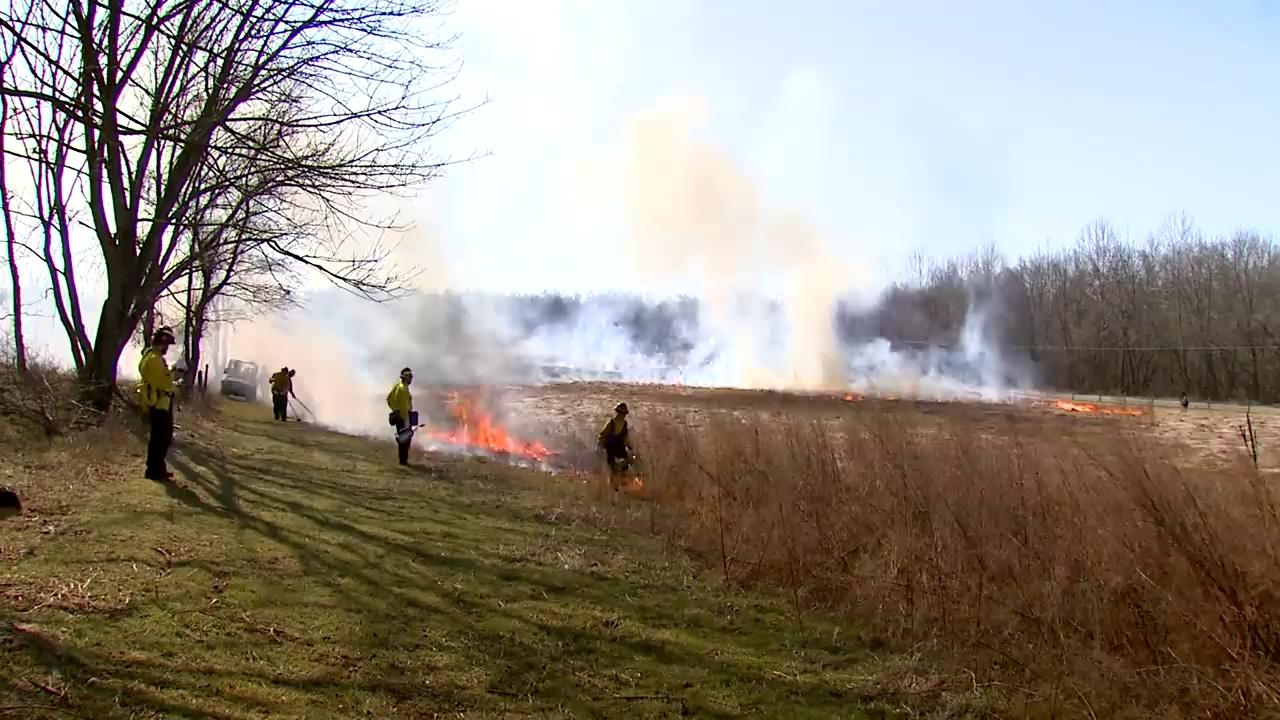Fire: (423, 390, 552, 456), (1057, 399, 1099, 413), (1112, 403, 1143, 418), (1113, 406, 1147, 418)
